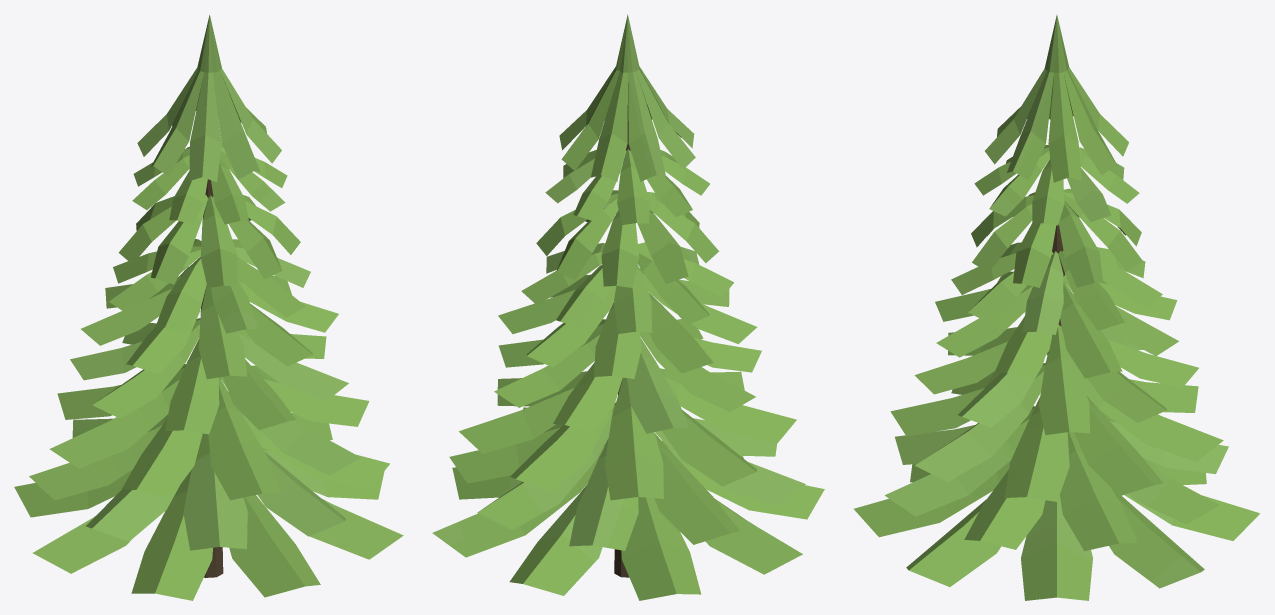
Rendered from tree1.obj.
3 views of the same model, side by side, from view 1: azimuth 30°, elevation 25°; view 2: azimuth 150°, elevation 25°; view 3: azimuth 270°, elevation 25° (orthographic).
Parts seen in each view (by area): view 1: Fir_Tree; view 2: Fir_Tree; view 3: Fir_Tree.
Boxes of the visible parts, bbox=[...] form: Fir_Tree: bbox=[14, 15, 403, 600]; Fir_Tree: bbox=[432, 14, 824, 600]; Fir_Tree: bbox=[854, 15, 1259, 600].
Size of the model in its own units: 3.77 by 5.71 by 3.77.
Materials: 1 (1 with a texture image).
